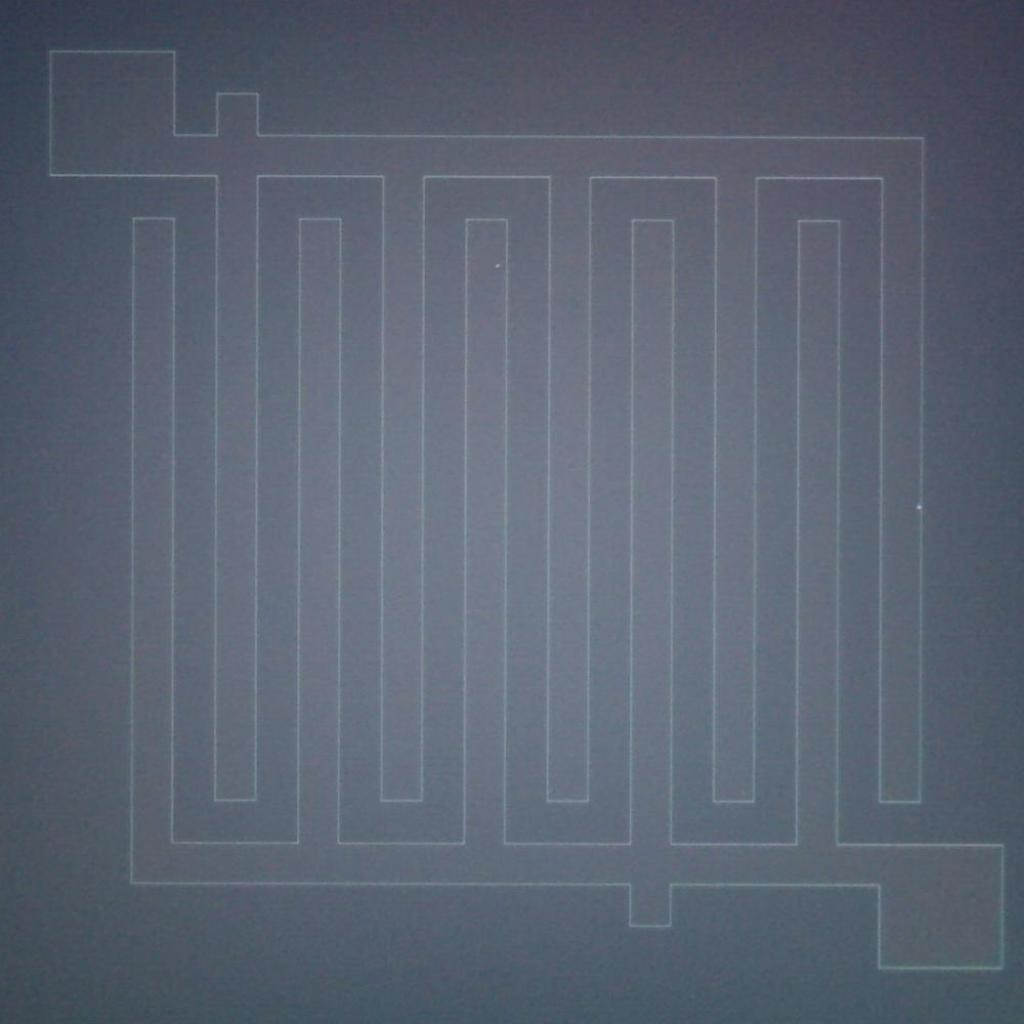dot: (916, 505, 922, 510), (495, 263, 500, 268)
